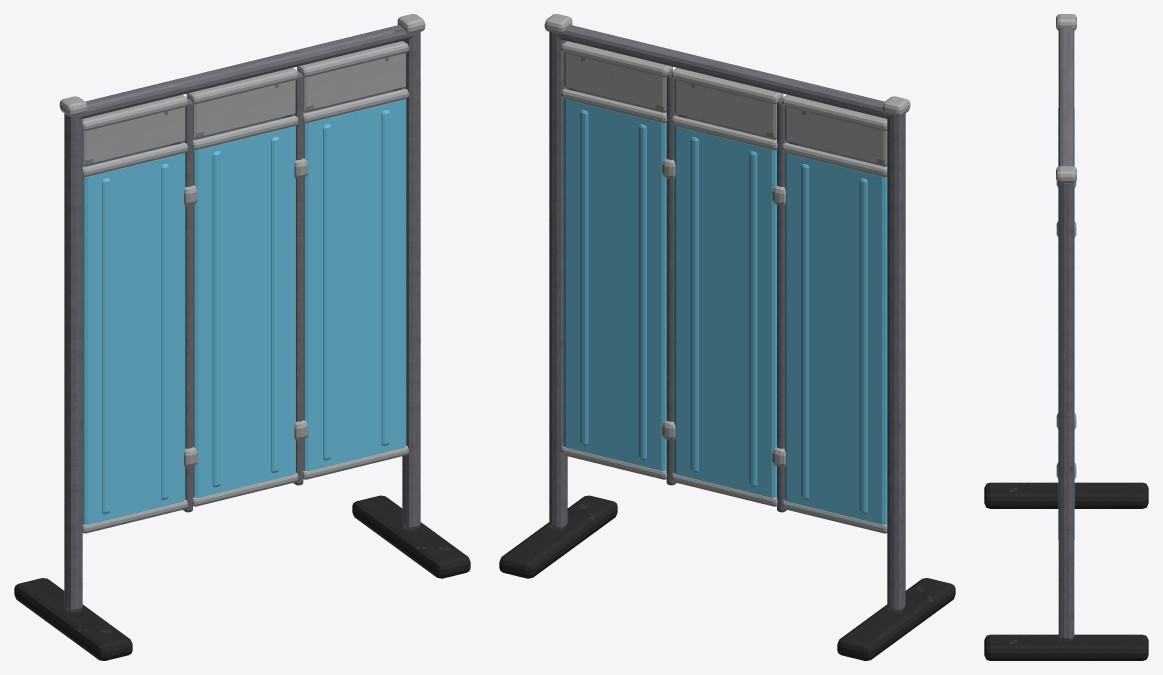
Rendered from decor_med_privacy_screen.glb.
The picture shows the model from 3 angles, left to right: view 1: azimuth 30°, elevation 25°; view 2: azimuth 150°, elevation 25°; view 3: azimuth 270°, elevation 25°; orthographic projection. The views are drawn at different scales.
Parts seen in each view (by area): view 1: DEC_MedPrivacyScreen__Panel_1, DEC_MedPrivacyScreen__Panel_3, DEC_MedPrivacyScreen__Panel_2, DEC_MedPrivacyScreen__Upright_1, DEC_MedPrivacyScreen__Upright_2, DEC_MedPrivacyScreen__Top_Rail, DEC_MedPrivacyScreen__Foot_1, DEC_MedPrivacyScreen__Foot_2, DEC_MedPrivacyScreen__Mesh_Band_1, DEC_MedPrivacyScreen__Mesh_Band_2, DEC_MedPrivacyScreen__Mesh_Band_3, DEC_MedPrivacyScreen__Fabric_Fold_1_1 (+16 smaller); view 2: DEC_MedPrivacyScreen__Panel_1, DEC_MedPrivacyScreen__Panel_3, DEC_MedPrivacyScreen__Panel_2, DEC_MedPrivacyScreen__Upright_1, DEC_MedPrivacyScreen__Upright_2, DEC_MedPrivacyScreen__Top_Rail, DEC_MedPrivacyScreen__Foot_1, DEC_MedPrivacyScreen__Foot_2, DEC_MedPrivacyScreen__Mesh_Band_1, DEC_MedPrivacyScreen__Mesh_Band_2, DEC_MedPrivacyScreen__Mesh_Band_3, DEC_MedPrivacyScreen__Fabric_Fold_1_1 (+16 smaller); view 3: DEC_MedPrivacyScreen__Upright_2, DEC_MedPrivacyScreen__Foot_2, DEC_MedPrivacyScreen__Foot_1, DEC_MedPrivacyScreen__Top_Rail, DEC_MedPrivacyScreen__Fabric_Fold_3_2, DEC_MedPrivacyScreen__Post_Cap_2, DEC_MedPrivacyScreen__Post_Cap_1.
Part boxes in pixels (<box>): DEC_MedPrivacyScreen__Panel_1: <box>82,153,185,524</box>; DEC_MedPrivacyScreen__Panel_3: <box>303,99,406,470</box>; DEC_MedPrivacyScreen__Panel_2: <box>193,126,295,497</box>; DEC_MedPrivacyScreen__Upright_1: <box>64,113,82,612</box>; DEC_MedPrivacyScreen__Upright_2: <box>402,32,420,530</box>; DEC_MedPrivacyScreen__Top_Rail: <box>76,25,416,118</box>; DEC_MedPrivacyScreen__Foot_1: <box>14,578,132,660</box>; DEC_MedPrivacyScreen__Foot_2: <box>352,495,470,578</box>; DEC_MedPrivacyScreen__Mesh_Band_1: <box>82,107,185,166</box>; DEC_MedPrivacyScreen__Mesh_Band_2: <box>193,80,295,139</box>; DEC_MedPrivacyScreen__Mesh_Band_3: <box>303,53,405,112</box>; DEC_MedPrivacyScreen__Fabric_Fold_1_1: <box>102,178,110,514</box>; DEC_MedPrivacyScreen__Panel_1: <box>784,153,887,524</box>; DEC_MedPrivacyScreen__Panel_3: <box>563,99,666,470</box>; DEC_MedPrivacyScreen__Panel_2: <box>674,126,776,497</box>; DEC_MedPrivacyScreen__Upright_1: <box>887,113,905,612</box>; DEC_MedPrivacyScreen__Upright_2: <box>549,32,567,530</box>; DEC_MedPrivacyScreen__Top_Rail: <box>553,25,893,118</box>; DEC_MedPrivacyScreen__Foot_1: <box>837,578,955,660</box>; DEC_MedPrivacyScreen__Foot_2: <box>499,495,617,578</box>; DEC_MedPrivacyScreen__Mesh_Band_1: <box>784,107,887,166</box>; DEC_MedPrivacyScreen__Mesh_Band_2: <box>674,80,776,139</box>; DEC_MedPrivacyScreen__Mesh_Band_3: <box>564,53,666,112</box>; DEC_MedPrivacyScreen__Fabric_Fold_1_1: <box>859,178,867,514</box>; DEC_MedPrivacyScreen__Upright_2: <box>1058,183,1074,641</box>; DEC_MedPrivacyScreen__Foot_2: <box>984,634,1148,660</box>; DEC_MedPrivacyScreen__Foot_1: <box>984,482,1148,508</box>; DEC_MedPrivacyScreen__Top_Rail: <box>1058,27,1074,166</box>; DEC_MedPrivacyScreen__Fabric_Fold_3_2: <box>1058,234,1074,539</box>; DEC_MedPrivacyScreen__Post_Cap_2: <box>1056,166,1076,182</box>; DEC_MedPrivacyScreen__Post_Cap_1: <box>1056,14,1076,30</box>.
Size of the model in its own units: 1.4 by 1.89 by 0.58.
Materials: 4 (3 with a texture image).
